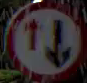Two way: (5, 2, 86, 77)
